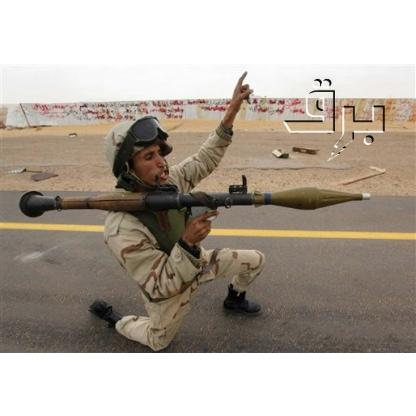gun: (18, 174, 370, 221)
